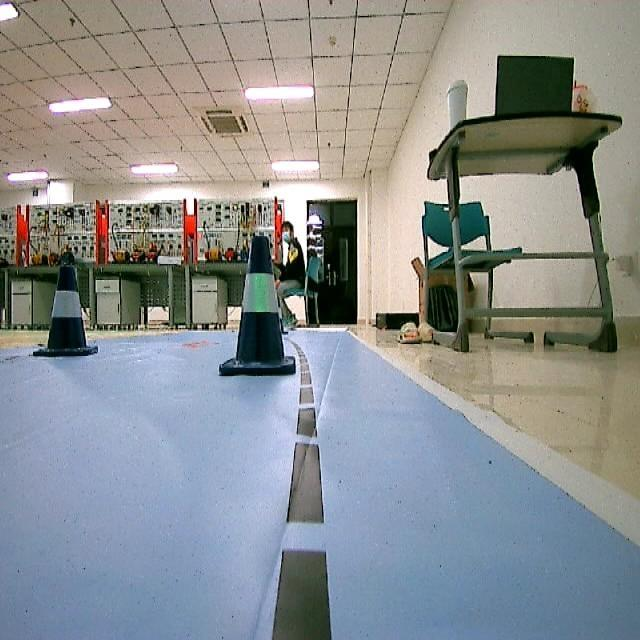obstacle: (217, 232, 293, 378), (35, 252, 95, 360)
